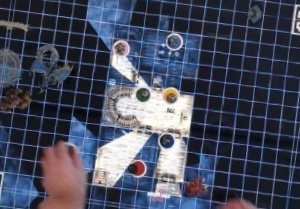blue: (157, 129, 177, 151)
green: (133, 83, 154, 103)
pink: (108, 37, 132, 60)
red: (127, 155, 149, 178)
violet: (163, 32, 185, 53)
yellow: (161, 82, 183, 105)
